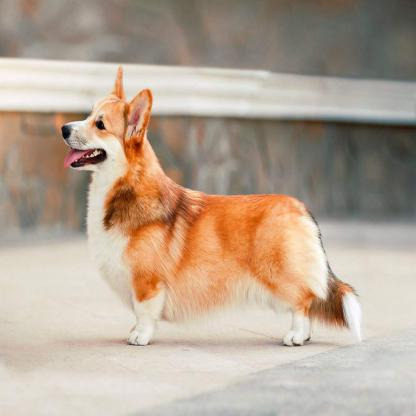Korgi: (47, 63, 369, 353)
